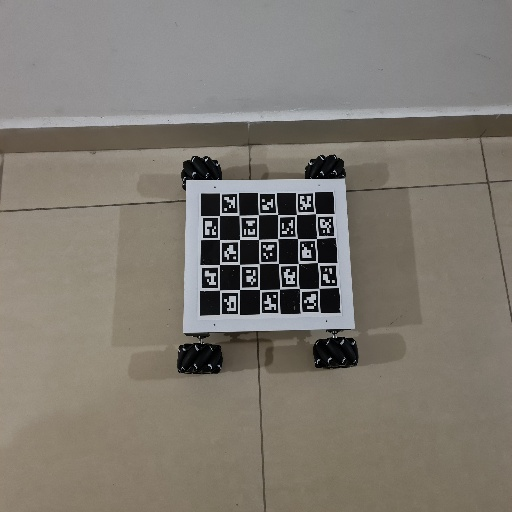Omniwheel: (178, 156, 359, 376)
